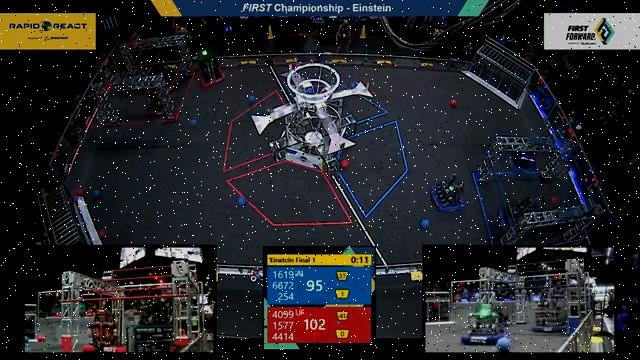Robot: (497, 194, 543, 237), (500, 135, 541, 175), (429, 172, 467, 213), (192, 49, 229, 89), (146, 55, 184, 93), (143, 86, 173, 117)
